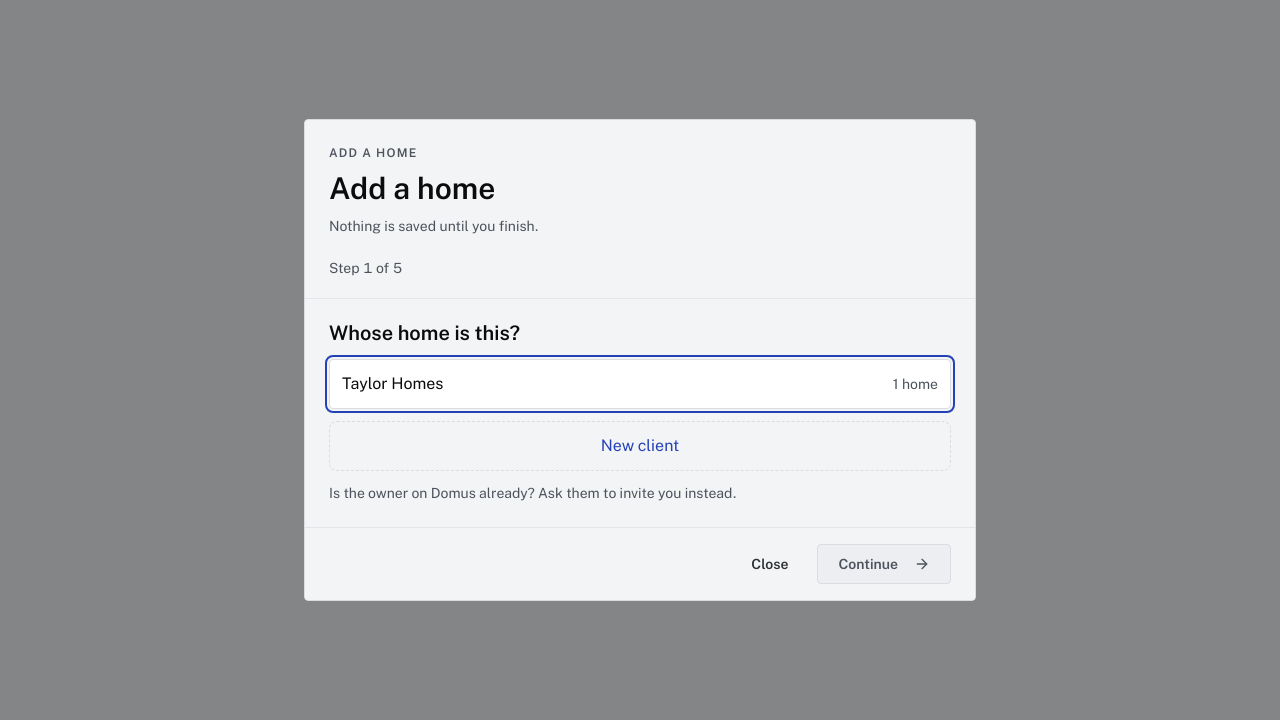
manager clients › requires a client in the manager wizard
The width and height of the screenshot is (1280, 720).
Expected: the heading "Add a home" is shown, x1=329 y1=170 x2=495 y2=206
Expected: the text "Nothing is saved until you finish." is shown, x1=329 y1=218 x2=539 y2=234
Click the radio button labelled "Taylor Homes 1 home" at (393, 384), box x1=329 y1=359 x2=951 y2=409
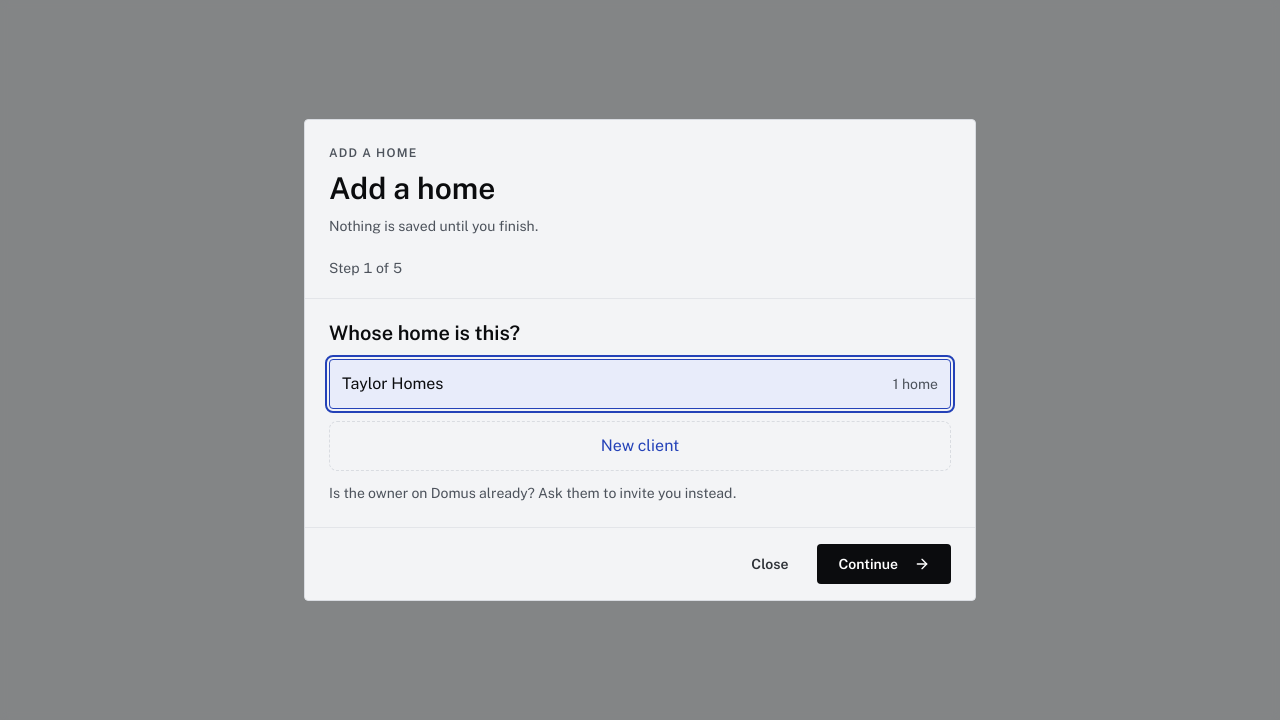
Result: the button "Continue" is enabled
Click the button "Continue" at (884, 564), box x1=817 y1=544 x2=951 y2=584
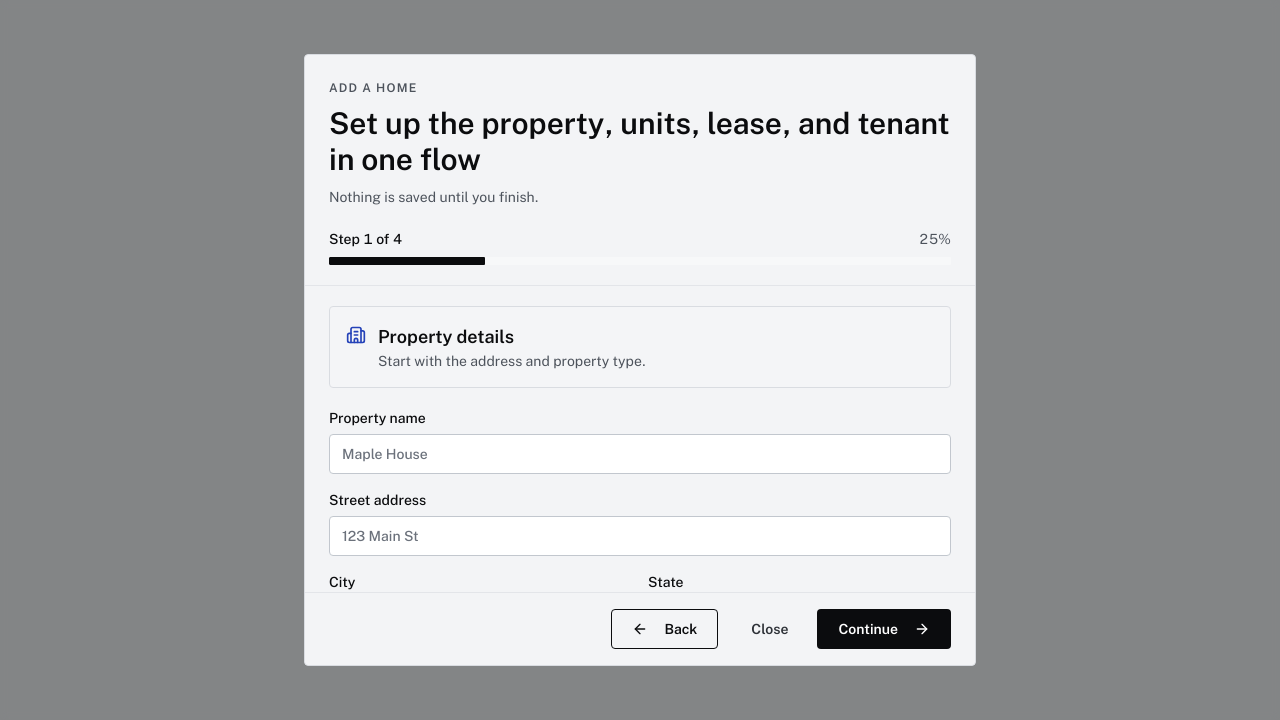
Result: the field labelled "Property name" is shown at x1=329 y1=434 x2=951 y2=474
